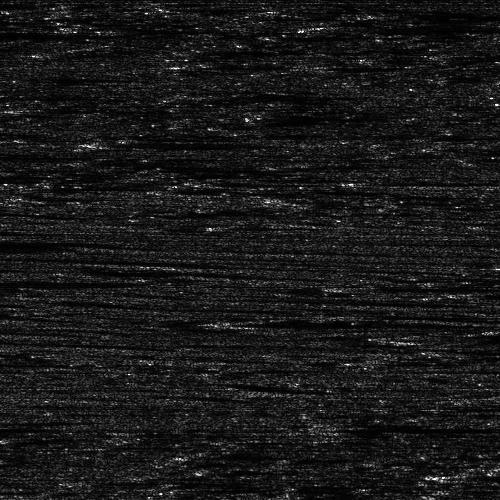object: (436, 463, 500, 488), (72, 137, 135, 148)
shadow: (0, 26, 208, 39), (0, 15, 182, 28), (104, 137, 283, 148), (473, 463, 500, 488), (0, 1, 21, 8)
